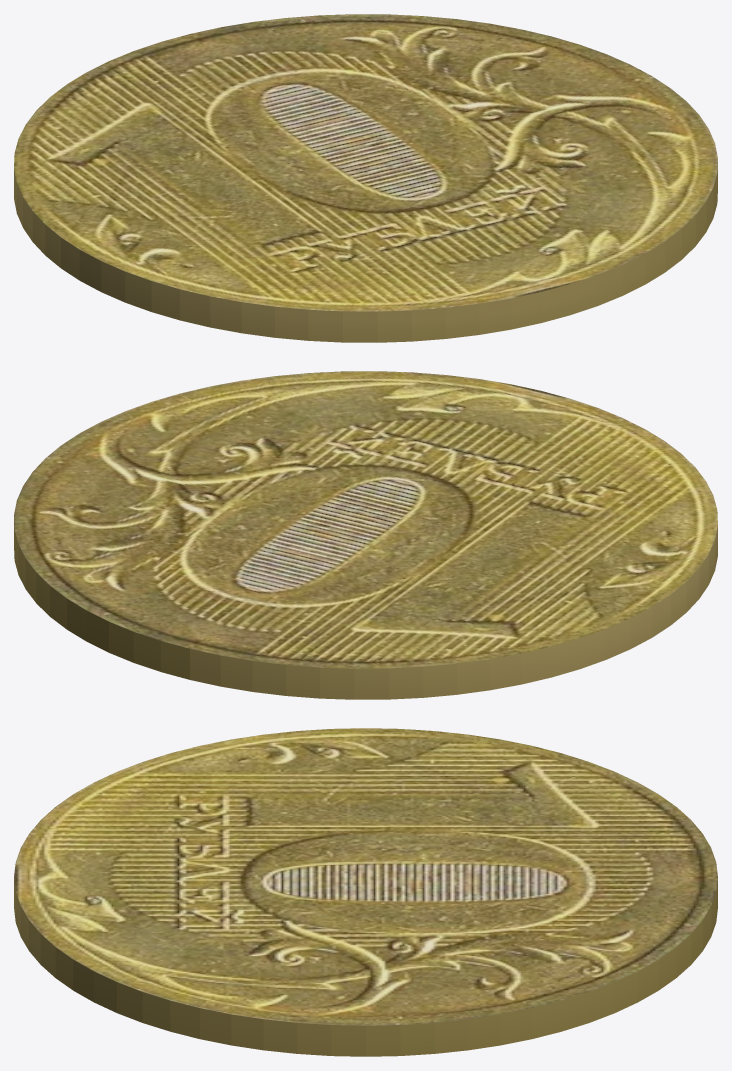
The model's file is 10rub.fbx.
The picture shows the model from 3 angles, top to bottom: view 1: azimuth 30°, elevation 25°; view 2: azimuth 150°, elevation 25°; view 3: azimuth 270°, elevation 25°; orthographic projection.
Parts seen in each view (by area): view 1: Цилиндр; view 2: Цилиндр; view 3: Цилиндр.
Part boxes in pixels (x1,y1,x2,y2): Цилиндр: (14, 14, 717, 342); Цилиндр: (14, 371, 717, 699); Цилиндр: (14, 728, 717, 1056).
Size of the model in its own units: 114 by 5.54 by 114.
